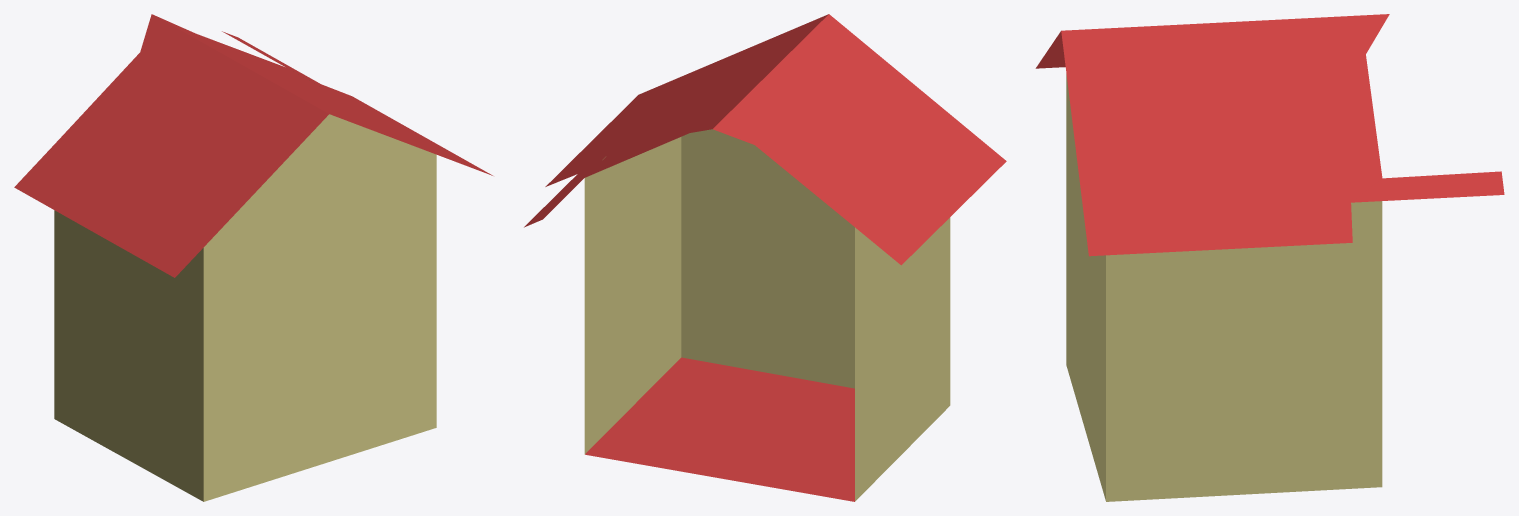
The picture shows the model from 3 angles, left to right: view 1: azimuth 30°, elevation 25°; view 2: azimuth 150°, elevation 25°; view 3: azimuth 270°, elevation 25°; orthographic projection. The views are drawn at different scales.
Size of the model in its own units: 8.61 by 8.42 by 7.95.
